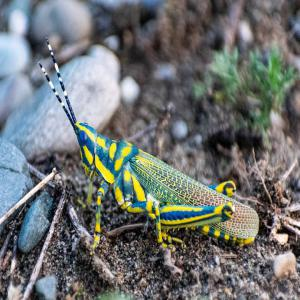locust: (46, 92, 264, 262)
